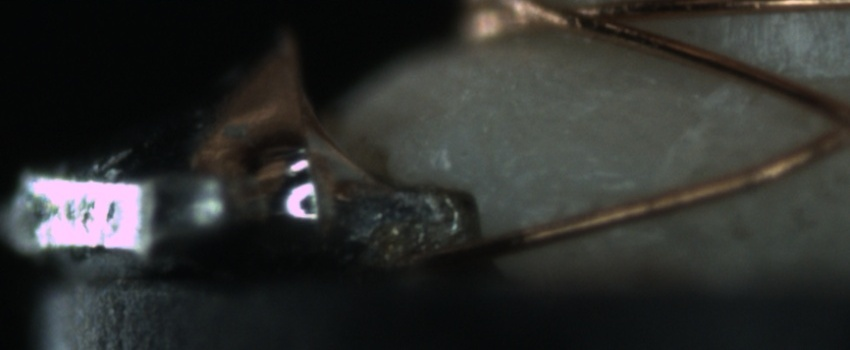CL: (799, 88, 850, 162)
